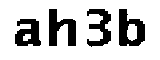3: (82, 4, 113, 49)
a: (11, 16, 42, 49)
b: (116, 10, 148, 48)
h: (48, 5, 80, 52)
